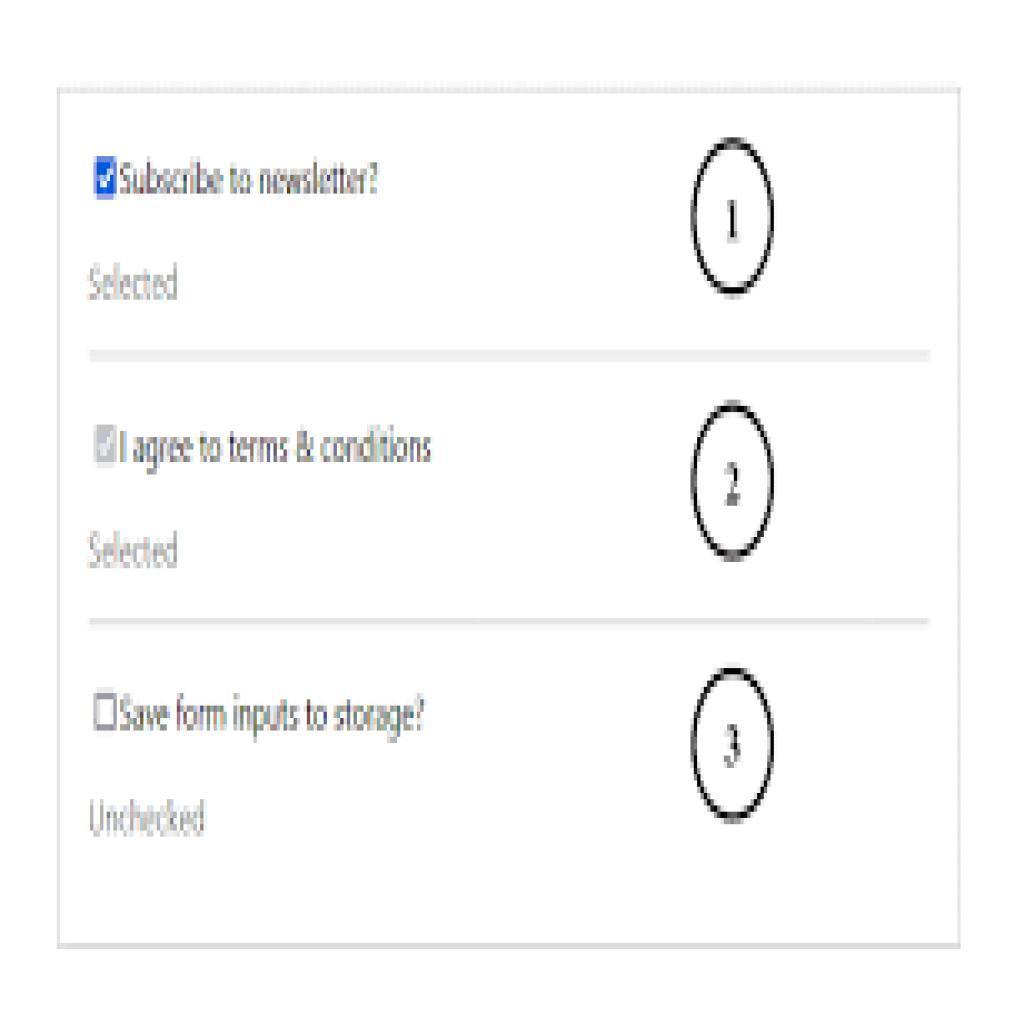checkbox: (94, 155, 120, 203), (92, 692, 121, 734), (94, 423, 122, 466)
